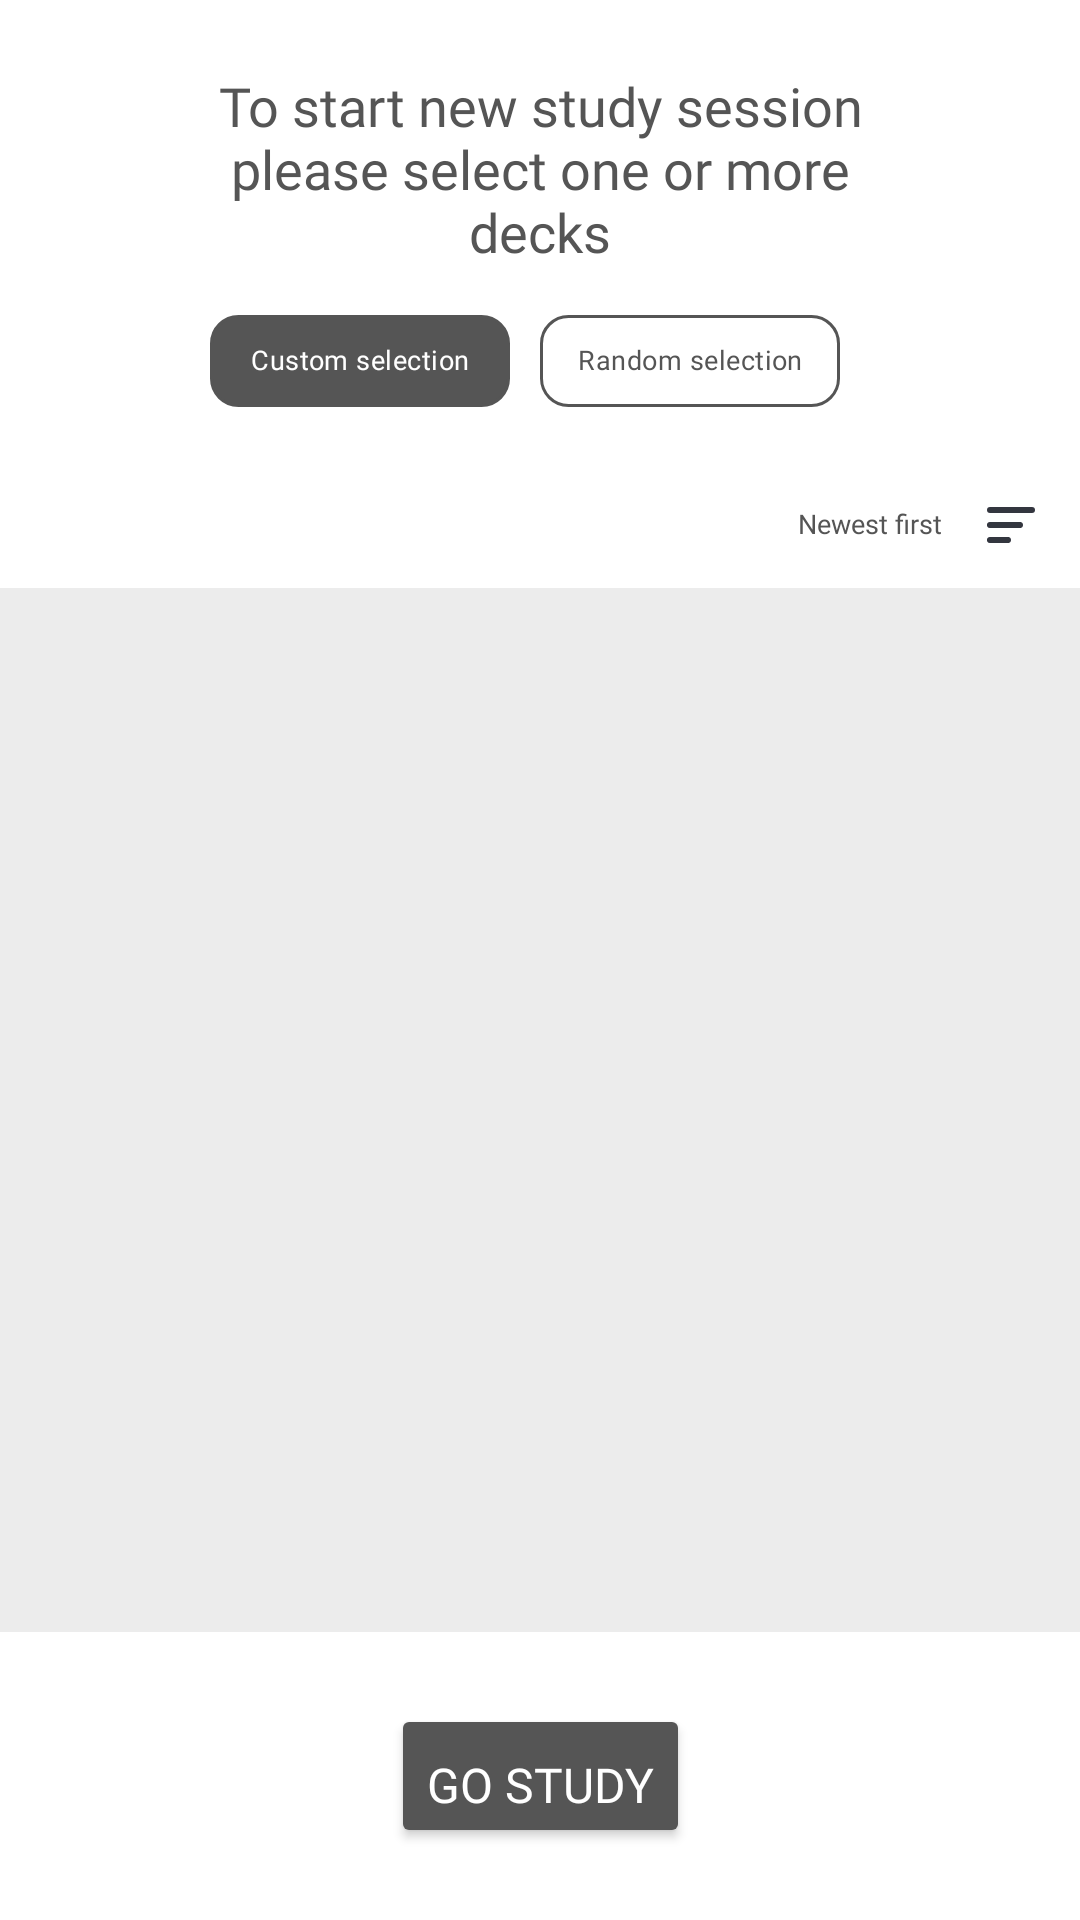

Named icons in this screenshot (1080 × 1920) and their bounding boxes, (x1, y1, x2, y2):
Filter options icon: (987, 507, 1035, 543)
